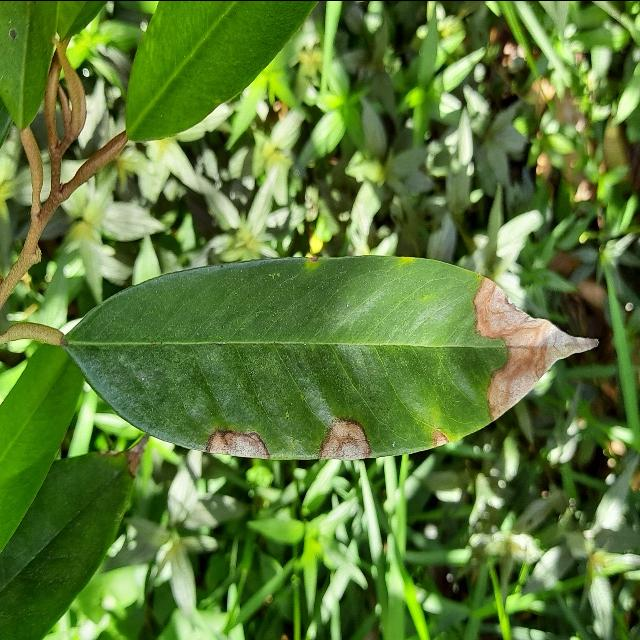Leaf Blight: (57, 242, 605, 475)
